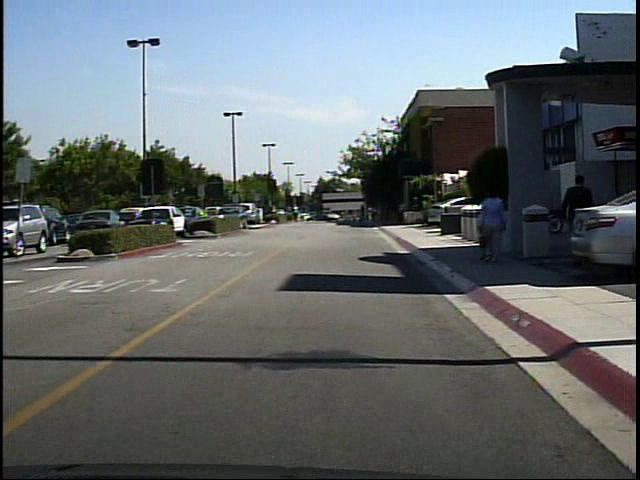person: (562, 166, 608, 273), (480, 186, 512, 266), (488, 189, 510, 264), (368, 204, 381, 228), (298, 202, 309, 227)
